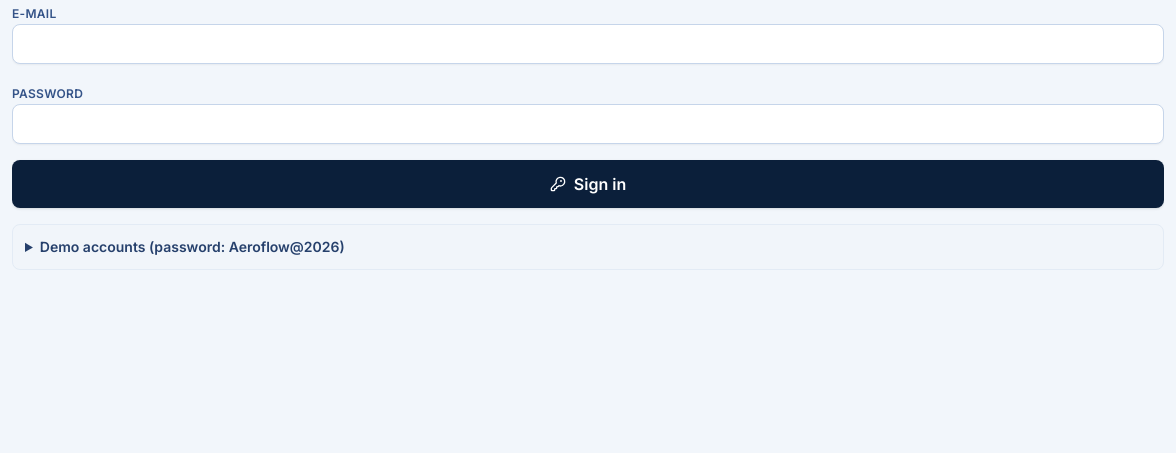
Test: LoginForm › demo account buttons fill the form
Step 1. Click the heading "Demo accounts (password: Aeroflow@2026)" → (192,246), box [40, 238, 345, 255]
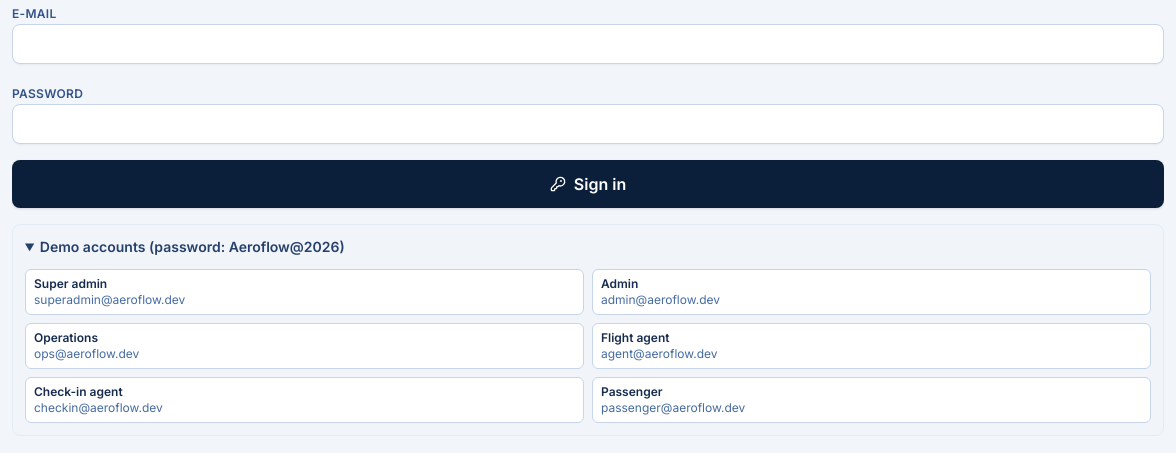
Step 2. Click the text "checkin@aeroflow.dev" → (98,408), box [34, 400, 163, 415]
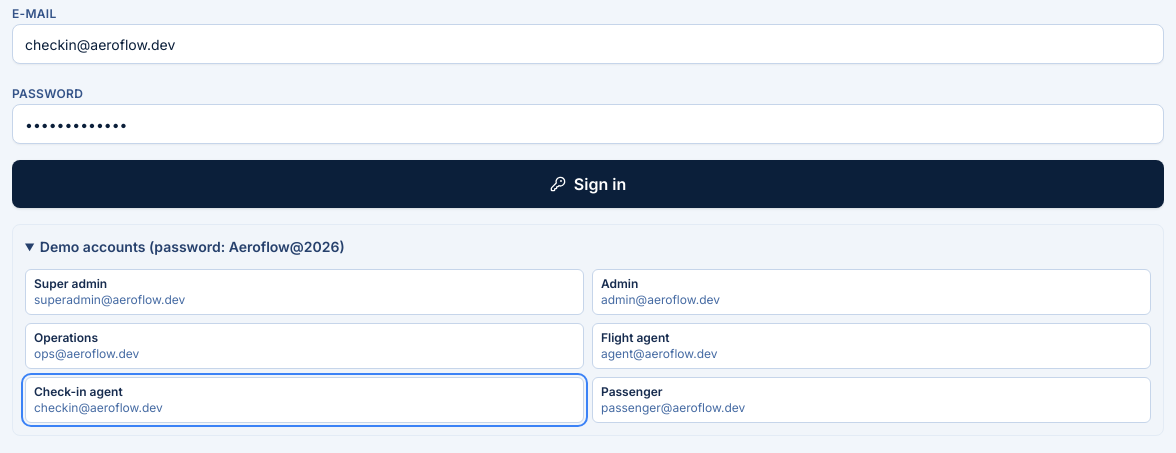
Expected: the field labelled "E-mail" holds "checkin@aeroflow.dev", [12, 24, 1164, 64]
